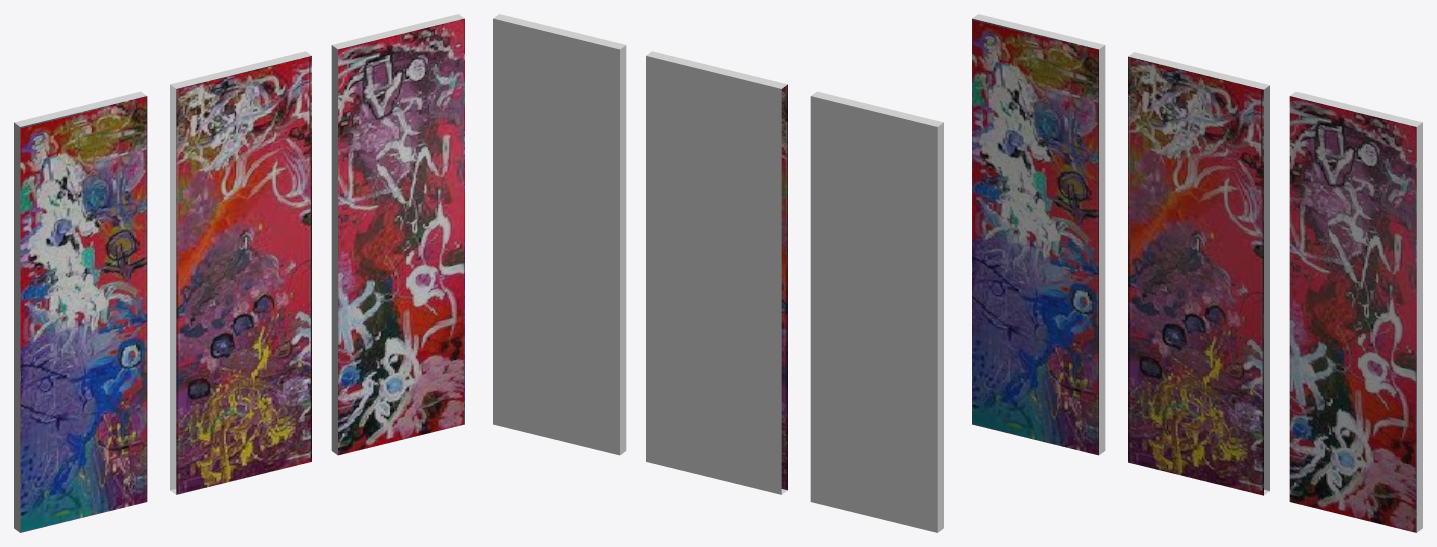
The model's file is wall_panting_4.fbx.
3 renders of one model, left to right at view 1: azimuth 30°, elevation 25°; view 2: azimuth 150°, elevation 25°; view 3: azimuth 330°, elevation 25°, orthographic.
Parts seen in each view (by area): view 1: marla; view 2: marla; view 3: marla.
Part boxes in pixels (x1,y1,x2,y2): marla: (14,14,464,532); marla: (493,14,943,532); marla: (972,14,1422,532).
Size of the model in its own units: 176 by 154 by 4.28.
2 materials, 1 textured.
